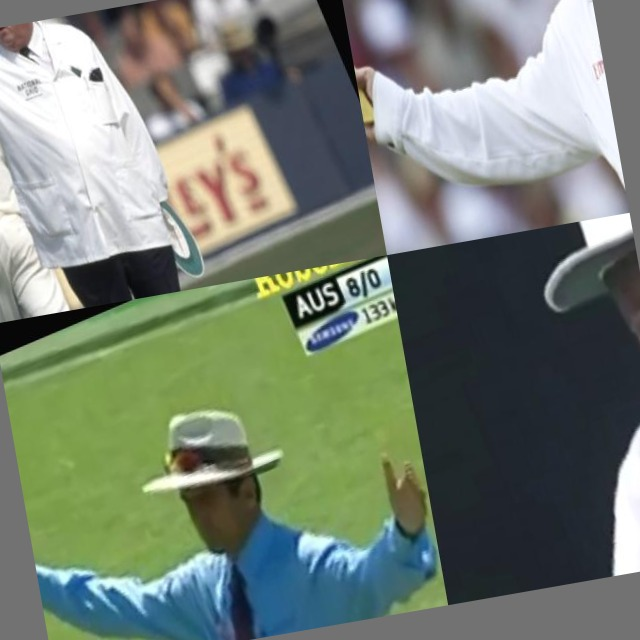No_Action: (444, 213, 640, 595)
Out: (0, 0, 258, 324)
Wide: (5, 322, 448, 640), (337, 0, 630, 255)
